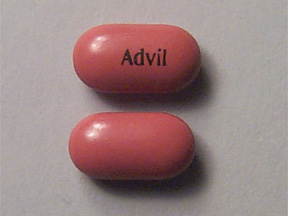Ibuprofen 200 MG Oral Tablet: (69, 18, 212, 102), (67, 107, 204, 191)
